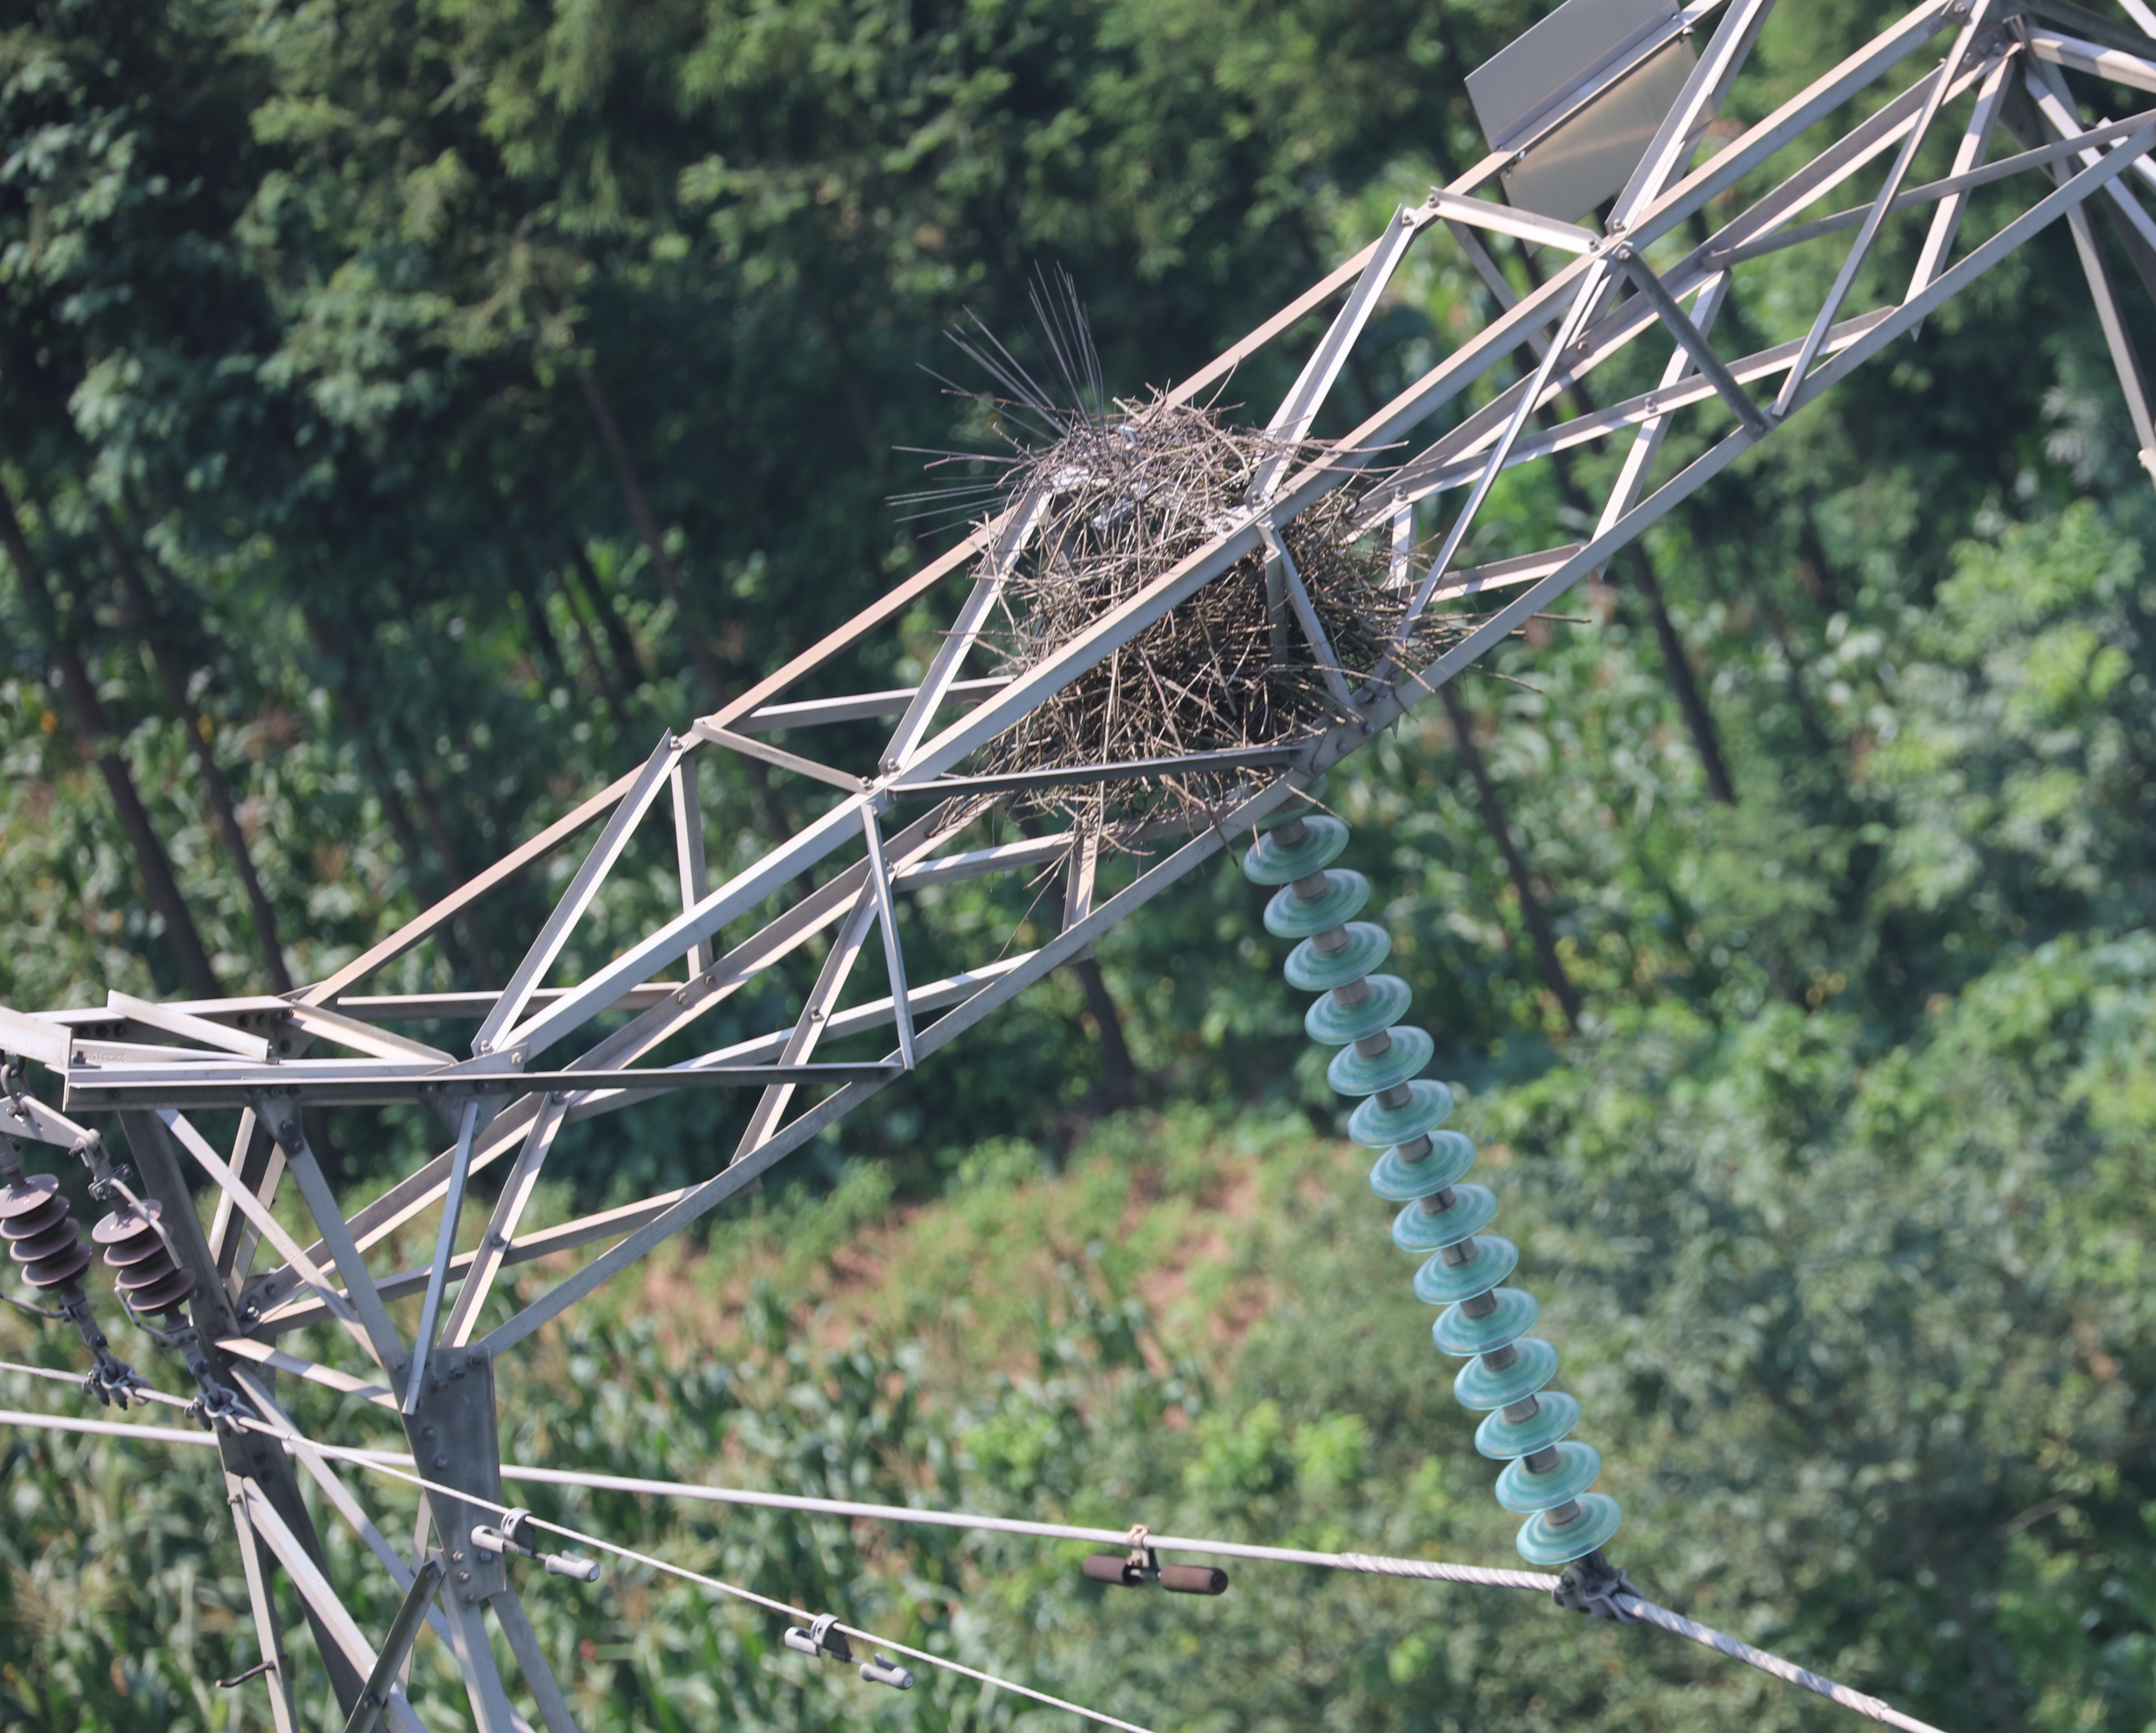niaowo: (906, 391, 1477, 849)
